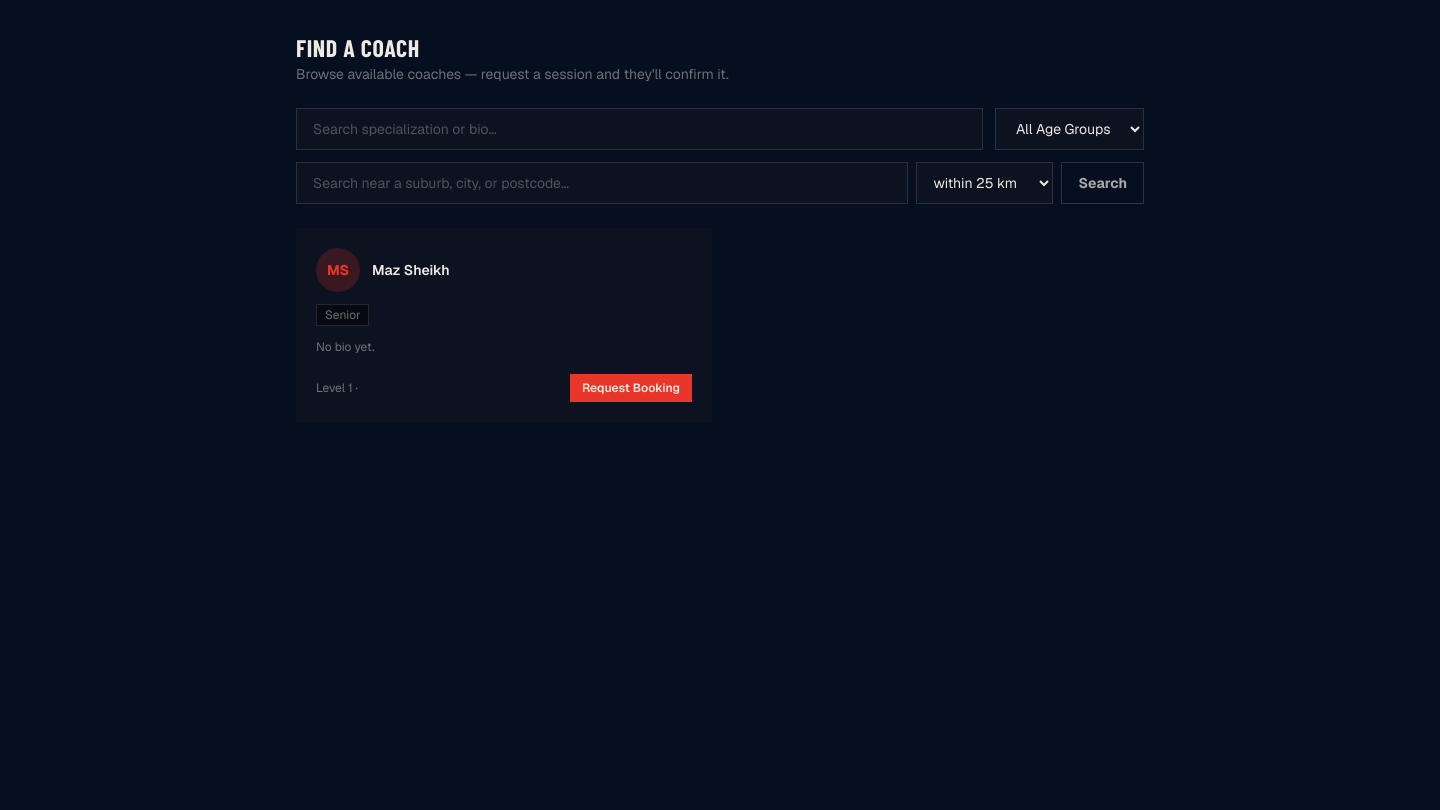
Scenario: FindCoachClient › Request Booking shows the server-computed fee and sends the request through the marketplace route
Click the button "Request Booking" at (631, 388), box [570,374,692,402]
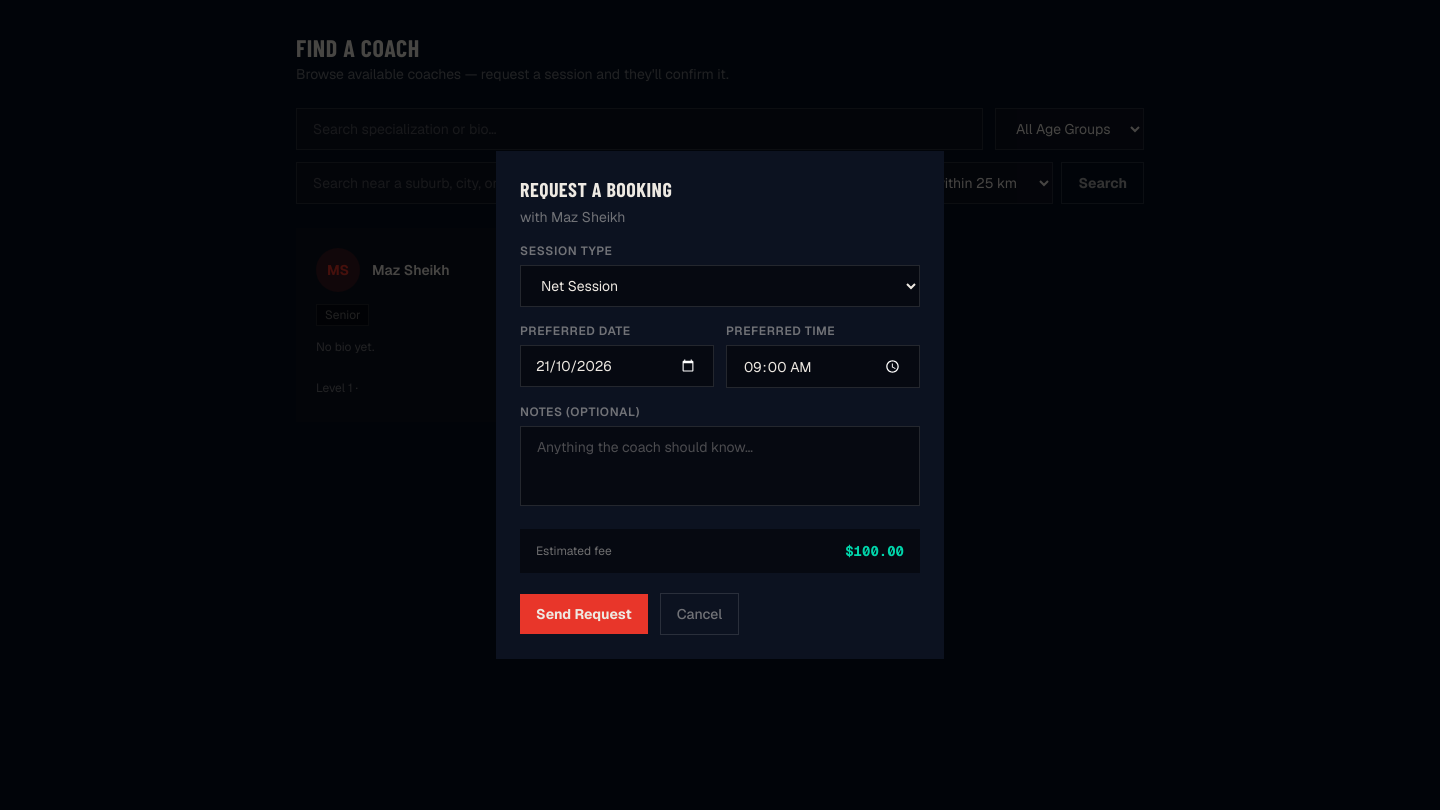
Now the text "$100.00" is shown, box [845,541,904,561]
Click the button "Send Request" at (584, 614), box [520,594,648,634]
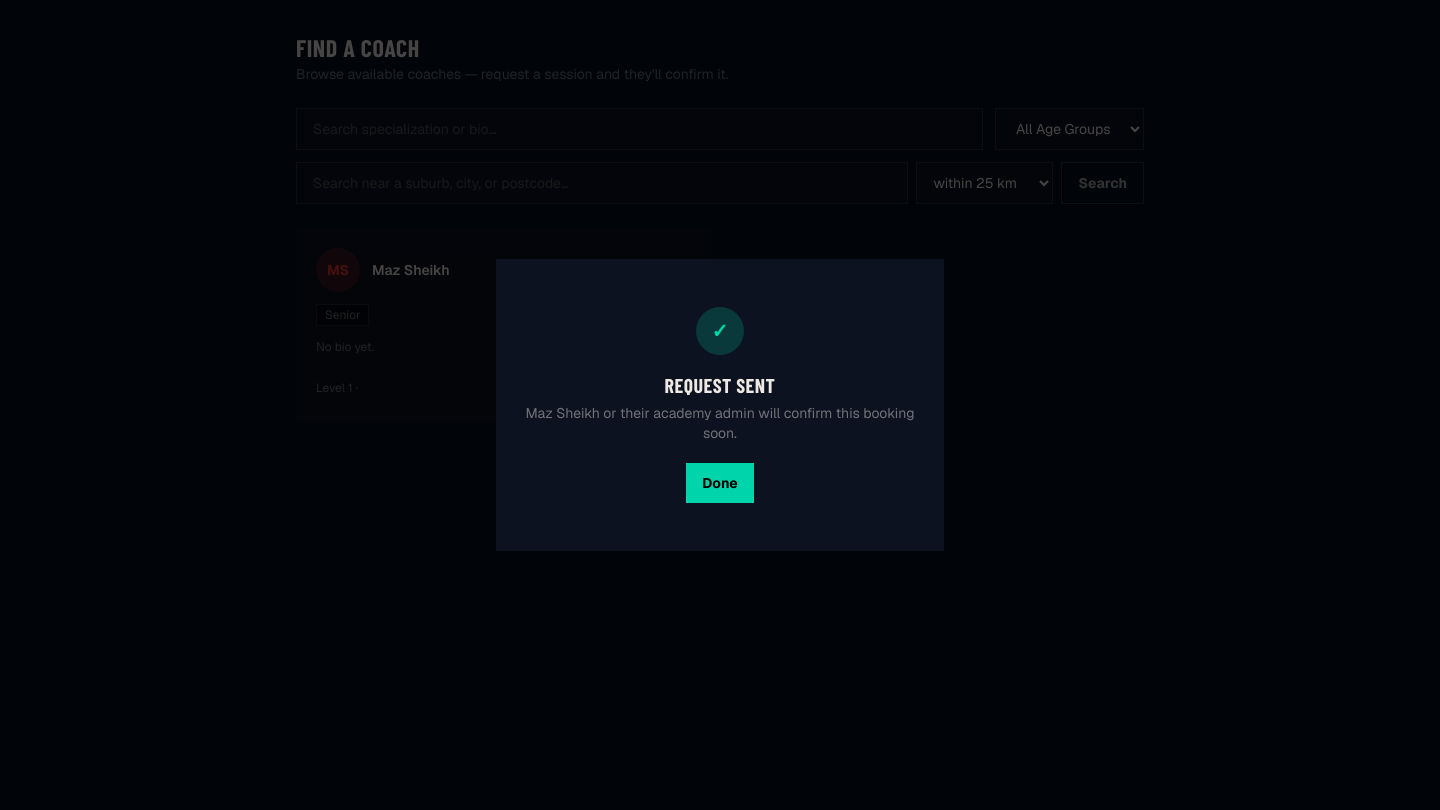
Now the heading "Request sent" is shown, box [664,373,776,397]
